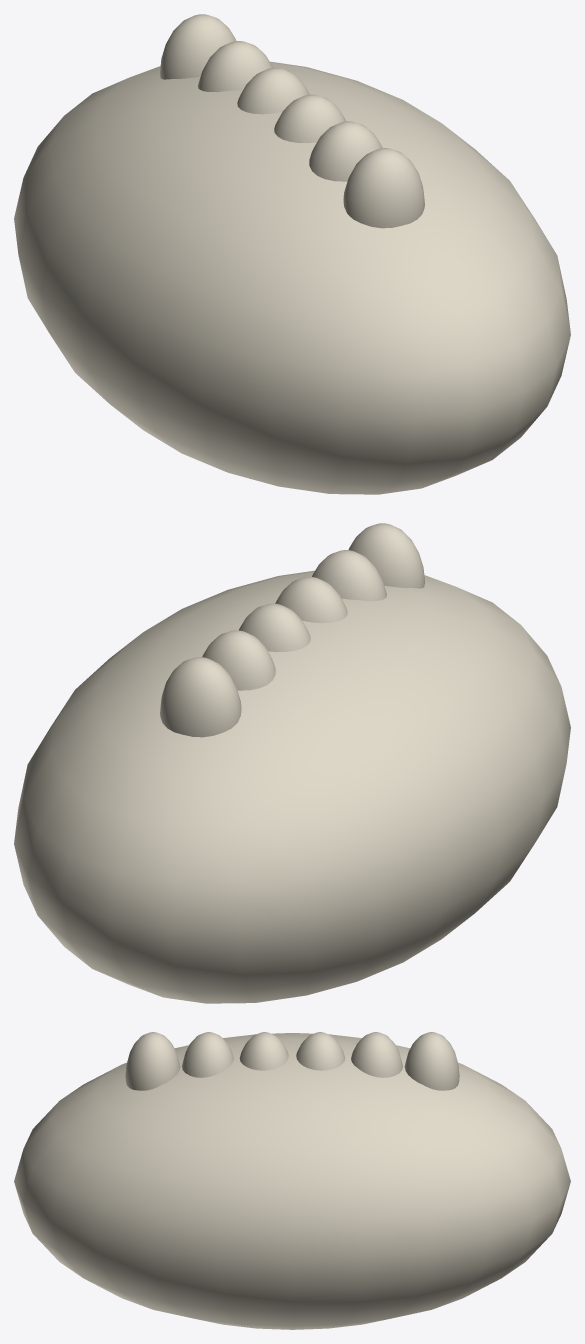
The model's file is Ammo_Dumpling.glb.
The picture shows the model from 3 angles, top to bottom: view 1: azimuth 30°, elevation 25°; view 2: azimuth 150°, elevation 25°; view 3: azimuth 270°, elevation 25°; orthographic projection. The views are drawn at different scales.
Parts seen in each view (by area): view 1: Sphere, Sphere.001, Sphere.006, Sphere.002, Sphere.005, Sphere.003, Sphere.004; view 2: Sphere, Sphere.006, Sphere.001, Sphere.005, Sphere.002, Sphere.004, Sphere.003; view 3: Sphere, Sphere.001, Sphere.006, Sphere.002, Sphere.005, Sphere.003, Sphere.004.
Boxes of the visible parts, left/top/right/bottom form: Sphere: left=14, top=61, right=570, bottom=494; Sphere.001: left=343, top=148, right=424, bottom=228; Sphere.006: left=160, top=14, right=236, bottom=79; Sphere.002: left=309, top=121, right=382, bottom=181; Sphere.005: left=198, top=41, right=272, bottom=92; Sphere.003: left=274, top=94, right=345, bottom=143; Sphere.004: left=237, top=67, right=309, bottom=114; Sphere: left=14, top=570, right=570, bottom=1003; Sphere.006: left=160, top=657, right=241, bottom=737; Sphere.001: left=348, top=523, right=424, bottom=588; Sphere.005: left=202, top=630, right=275, bottom=690; Sphere.002: left=312, top=550, right=386, bottom=601; Sphere.004: left=239, top=603, right=310, bottom=652; Sphere.003: left=275, top=576, right=347, bottom=623; Sphere: left=14, top=1033, right=570, bottom=1329; Sphere.001: left=125, top=1032, right=180, bottom=1090; Sphere.006: left=404, top=1032, right=459, bottom=1090; Sphere.002: left=182, top=1032, right=233, bottom=1077; Sphere.005: left=351, top=1032, right=402, bottom=1077; Sphere.003: left=239, top=1032, right=288, bottom=1070; Sphere.004: left=296, top=1032, right=345, bottom=1070.
Size of the model in its own units: 0.8 by 0.65 by 1.2.
